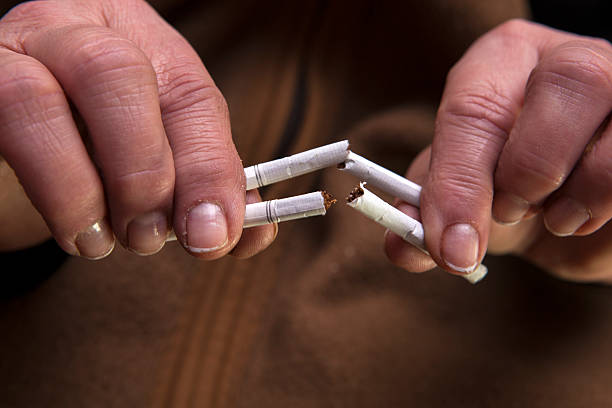cigarette: (344, 183, 430, 255), (243, 137, 350, 189), (335, 149, 426, 206), (241, 189, 334, 228)
